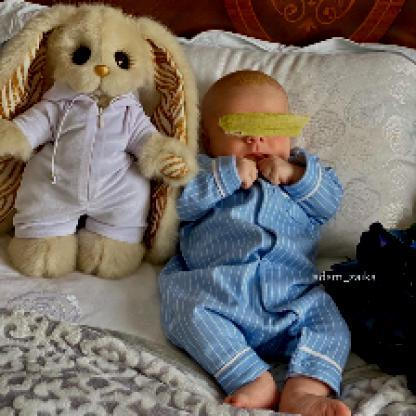child: (157, 70, 354, 416)
